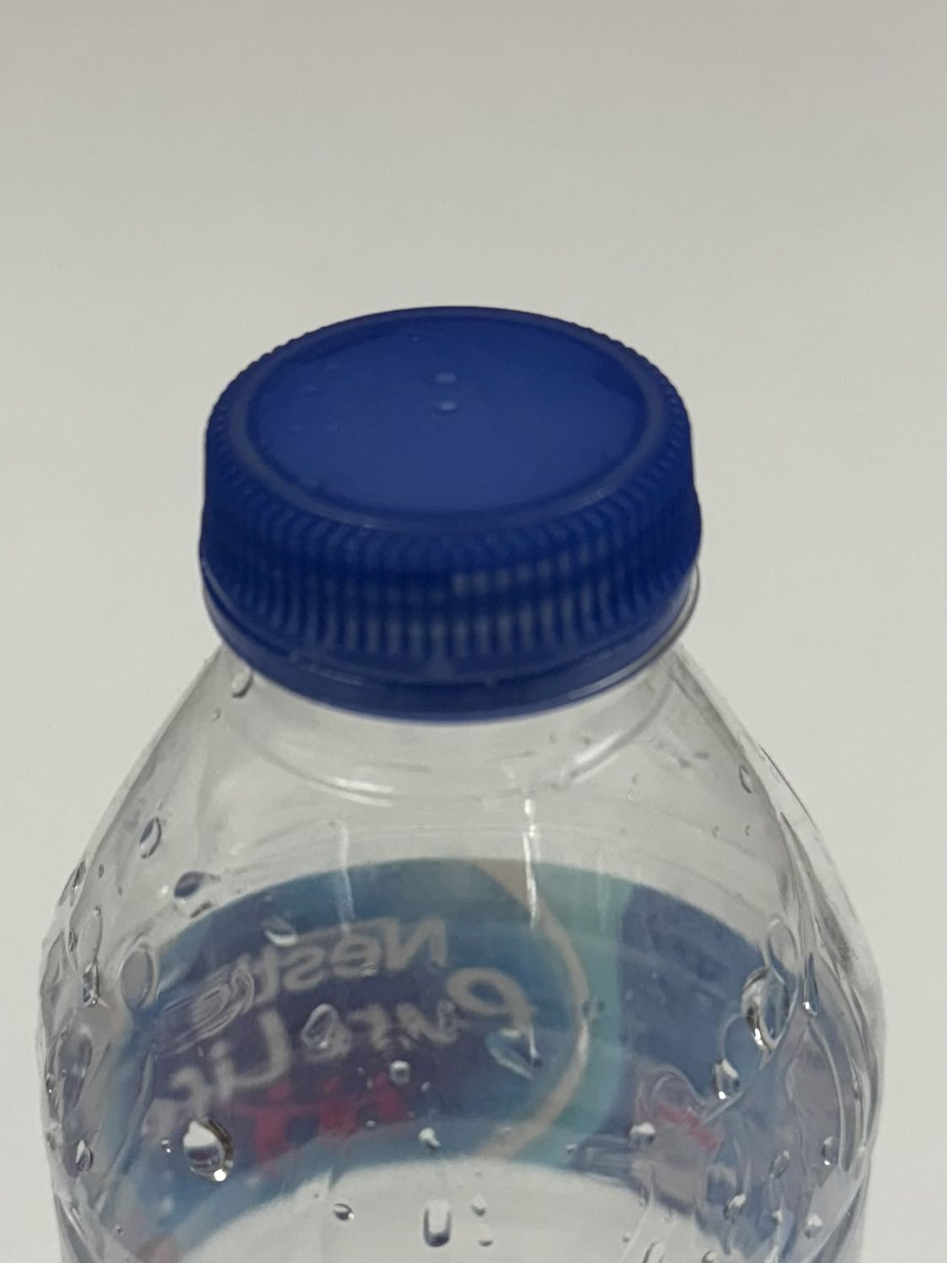closed_cap: (193, 298, 708, 718)
